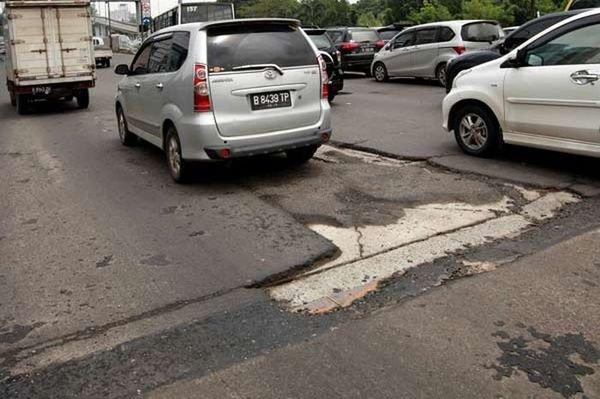Pothole: (247, 156, 600, 344)
